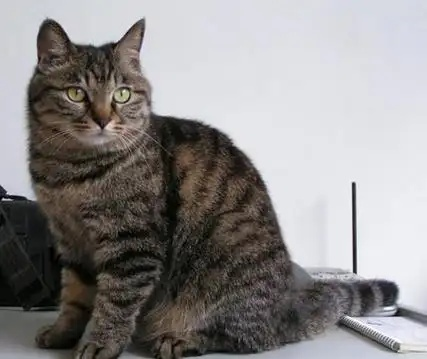狸花猫: (28, 19, 150, 183)
